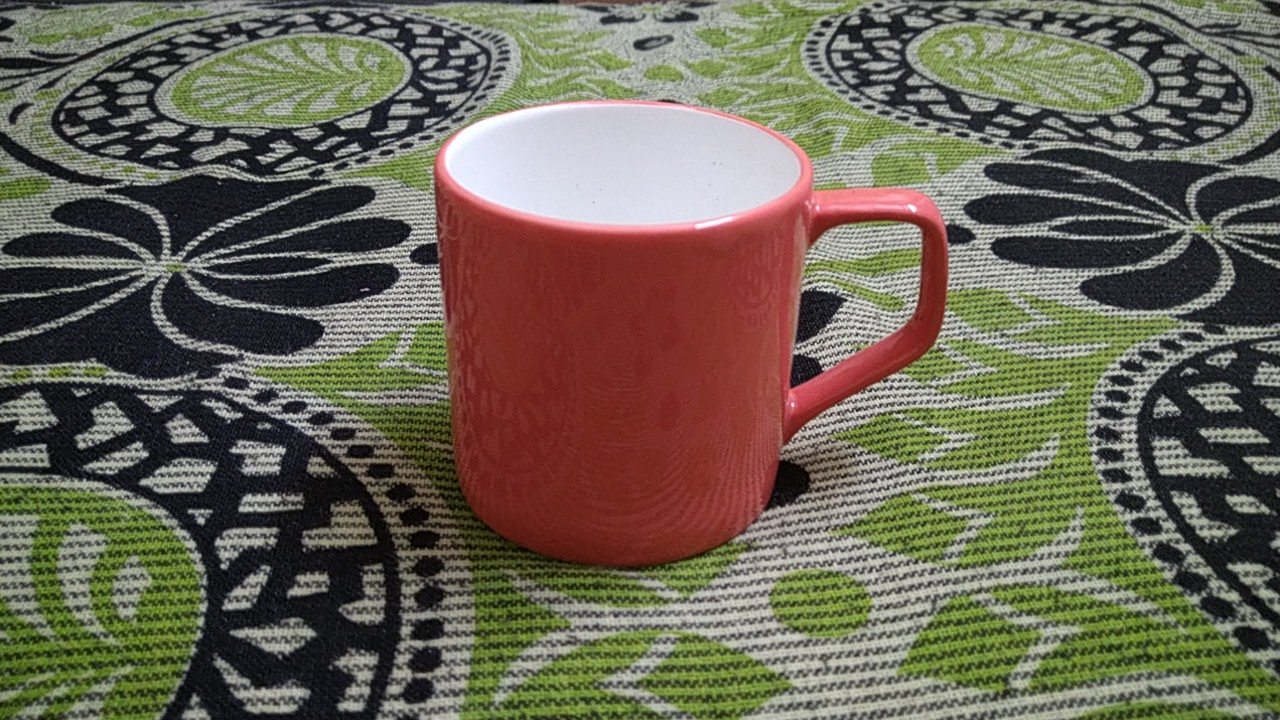cup: (412, 95, 959, 574)
